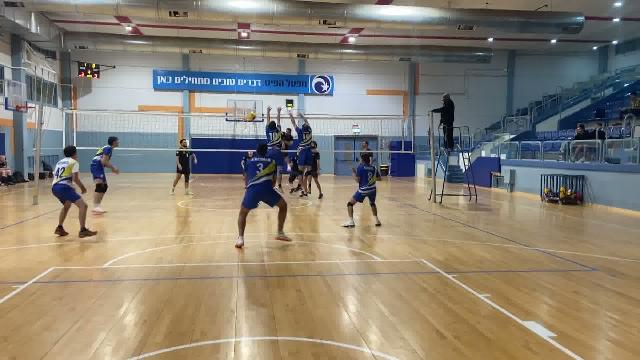ball: (247, 107, 257, 124)
